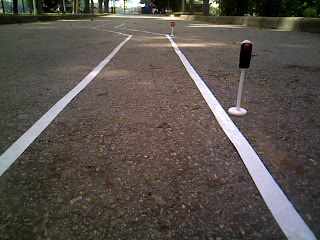Red: (237, 38, 256, 71)
